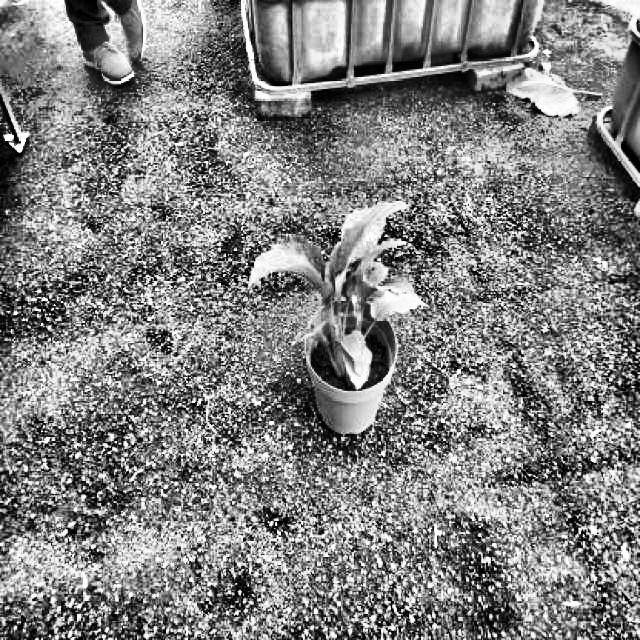plants: (250, 199, 424, 395)
